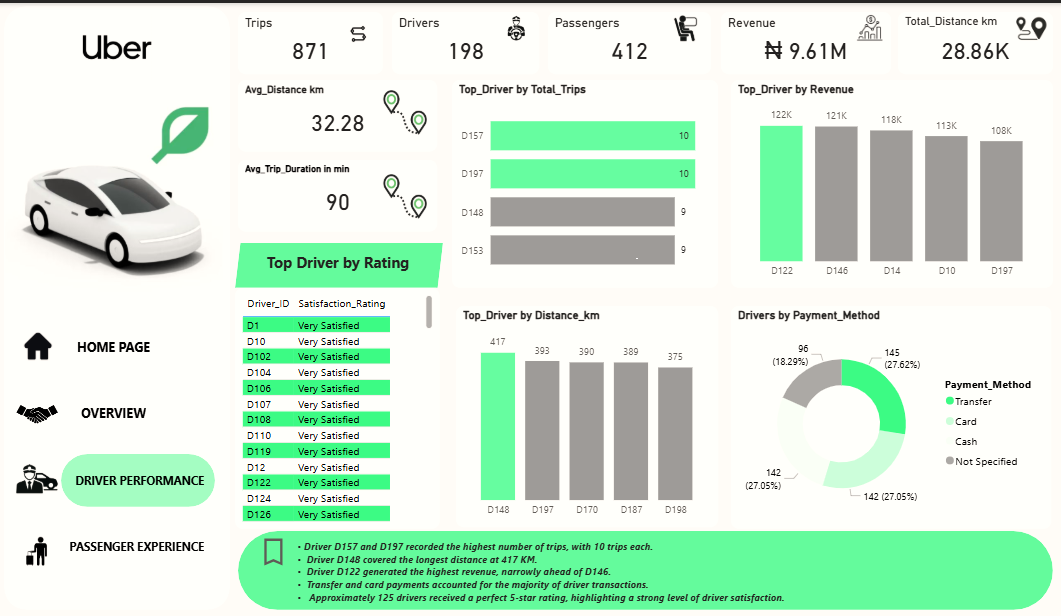

What the dashboard file says about the page in this screenshot:
{"tool":"powerbi","page":{"name":"DRIVERS","canvas":[1350,780],"ordinal":2},"visuals":[{"type":"card","title":"Trips","fields":{"Values":["uber cleaned dataset.Total_Trips"]},"box":[303.6,10.8,184.3,78.6],"z":0},{"type":"card","title":"Drivers","fields":{"Values":["uber cleaned dataset.Total_Drivers"]},"box":[499.5,10.8,187,78.6],"z":1000},{"type":"card","title":"Passengers","fields":{"Values":["uber cleaned dataset.Total_passengers"]},"box":[698,10.8,207.4,78.6],"z":2000},{"type":"card","title":"Revenue","fields":{"Values":["Sum(uber cleaned dataset.Clean_Fare)"]},"box":[917.6,10.8,215.5,78.6],"z":3000},{"type":"card","title":"Total_Distance km","fields":{"Values":["Sum(uber cleaned dataset.Distance_km)"]},"box":[1142.6,10.8,196.5,78.6],"z":4000},{"type":"shape","box":[6.4,3.8,287.1,767.3],"z":5000},{"type":"barChart","title":"Top_Driver by Total_Trips","fields":{"Category":["uber cleaned dataset.Driver_ID"],"Y":["uber cleaned dataset.Total_Trips"]},"box":[576.1,97.6,337.5,264.3],"z":6000},{"type":"columnChart","title":"Top_Driver by Distance_km ","fields":{"Category":["uber cleaned dataset.Driver_ID"],"Y":["Sum(uber cleaned dataset.Distance_km)"]},"box":[580.1,384.9,333.4,280.6],"z":7000},{"type":"columnChart","title":"Top_Driver by Revenue","fields":{"Category":["uber cleaned dataset.Driver_ID"],"Y":["Sum(uber cleaned dataset.Clean_Fare)"]},"box":[929.8,97.6,409.3,264.3],"z":8000},{"type":"donutChart","title":"Drivers by Payment_Method","fields":{"Category":["uber cleaned dataset.Payment_Method"],"Y":["uber cleaned dataset.Total_Drivers"]},"box":[929.8,384.9,406.6,283.3],"z":9000},{"type":"tableEx","fields":{"Values":["uber cleaned dataset.Driver_ID","uber cleaned dataset.Satisfaction_Rating"]},"box":[299.5,361.9,260.2,306.3],"z":10000},{"type":"card","title":"Avg_Distance km","fields":{"Values":["uber cleaned dataset.Avg_Distance_covered"]},"box":[303.6,97.6,253.5,90.8],"z":11000},{"type":"card","title":"Avg_Trip_Duration in min","fields":{"Values":["uber cleaned dataset.Avg_Trip_Duration"]},"box":[303.6,199.2,253.5,90.8],"z":12000},{"type":"shape","box":[299.5,305,264.3,56.9],"z":13000},{"type":"shape","box":[303.6,670.7,1035.3,100.4],"z":14000},{"type":"actionButton","box":[16.5,404,257.9,66.1],"z":15000},{"type":"actionButton","box":[16.5,487.8,257.9,66.1],"z":16000},{"type":"actionButton","box":[78.8,572.9,195.6,67.3],"z":17000},{"type":"actionButton","box":[16.5,656.8,257.9,67.3],"z":18000},{"type":"textbox","box":[310.4,311.7,241.3,43.4],"z":19000},{"type":"actionButton","box":[326.5,672,44.5,49.5],"z":20000},{"type":"image","box":[7.6,80,275.7,325.2],"z":21000},{"type":"image","box":[427,14.9,55.6,46.1],"z":22000},{"type":"image","box":[628.8,14,55.9,35.6],"z":23000},{"type":"image","box":[844.8,15.2,54.6,34.3],"z":24000},{"type":"image","box":[1081.1,14,50.8,35.6],"z":25000},{"type":"image","box":[1286.9,14,48.3,35.6],"z":26000},{"type":"image","box":[481.2,97.6,67.8,81.3],"z":27000},{"type":"image","box":[481.2,204.7,67.8,81.3],"z":28000},{"type":"textbox","box":[364.6,677.1,946.4,94],"z":29000},{"type":"image","box":[16.5,14,266.8,83.8],"z":30000},{"type":"image","box":[17.8,677.1,61,39.4],"z":31000},{"type":"image","box":[21.6,500.5,55.9,39.4],"z":32000},{"type":"image","box":[21.6,416.7,55.9,39.4],"z":33000},{"type":"image","box":[19.1,585.6,58.4,39.4],"z":34000}]}

Visuals, with their boxes in screenshot pixels (x1, y1, x2, y2), scaled from the page's 1350x780 canvas onto the 1061x616 screenshot:
"Trips" card: pyautogui.locateOnScreen(239, 9, 383, 71)
"Drivers" card: pyautogui.locateOnScreen(393, 9, 540, 71)
"Passengers" card: pyautogui.locateOnScreen(549, 9, 712, 71)
"Revenue" card: pyautogui.locateOnScreen(721, 9, 891, 71)
"Total_Distance km" card: pyautogui.locateOnScreen(898, 9, 1052, 71)
shape: pyautogui.locateOnScreen(5, 3, 231, 609)
"Top_Driver by Total_Trips" barChart: pyautogui.locateOnScreen(453, 77, 718, 286)
"Top_Driver by Distance_km " columnChart: pyautogui.locateOnScreen(456, 304, 718, 526)
"Top_Driver by Revenue" columnChart: pyautogui.locateOnScreen(731, 77, 1052, 286)
"Drivers by Payment_Method" donutChart: pyautogui.locateOnScreen(731, 304, 1050, 528)
tableEx - uber cleaned dataset.Driver_ID x uber cleaned dataset.Satisfaction_Rating: pyautogui.locateOnScreen(235, 286, 440, 528)
"Avg_Distance km" card: pyautogui.locateOnScreen(239, 77, 438, 149)
"Avg_Trip_Duration in min" card: pyautogui.locateOnScreen(239, 157, 438, 229)
shape: pyautogui.locateOnScreen(235, 241, 443, 286)
shape: pyautogui.locateOnScreen(239, 530, 1052, 609)
actionButton: pyautogui.locateOnScreen(13, 319, 216, 371)
actionButton: pyautogui.locateOnScreen(13, 385, 216, 437)
actionButton: pyautogui.locateOnScreen(62, 452, 216, 506)
actionButton: pyautogui.locateOnScreen(13, 519, 216, 572)
textbox: pyautogui.locateOnScreen(244, 246, 434, 280)
actionButton: pyautogui.locateOnScreen(257, 531, 292, 570)
image: pyautogui.locateOnScreen(6, 63, 223, 320)
image: pyautogui.locateOnScreen(336, 12, 379, 48)
image: pyautogui.locateOnScreen(494, 11, 538, 39)
image: pyautogui.locateOnScreen(664, 12, 707, 39)
image: pyautogui.locateOnScreen(850, 11, 890, 39)
image: pyautogui.locateOnScreen(1011, 11, 1049, 39)
image: pyautogui.locateOnScreen(378, 77, 431, 141)
image: pyautogui.locateOnScreen(378, 162, 431, 226)
textbox: pyautogui.locateOnScreen(287, 535, 1030, 609)
image: pyautogui.locateOnScreen(13, 11, 223, 77)
image: pyautogui.locateOnScreen(14, 535, 62, 566)
image: pyautogui.locateOnScreen(17, 395, 61, 426)
image: pyautogui.locateOnScreen(17, 329, 61, 360)
image: pyautogui.locateOnScreen(15, 462, 61, 494)
